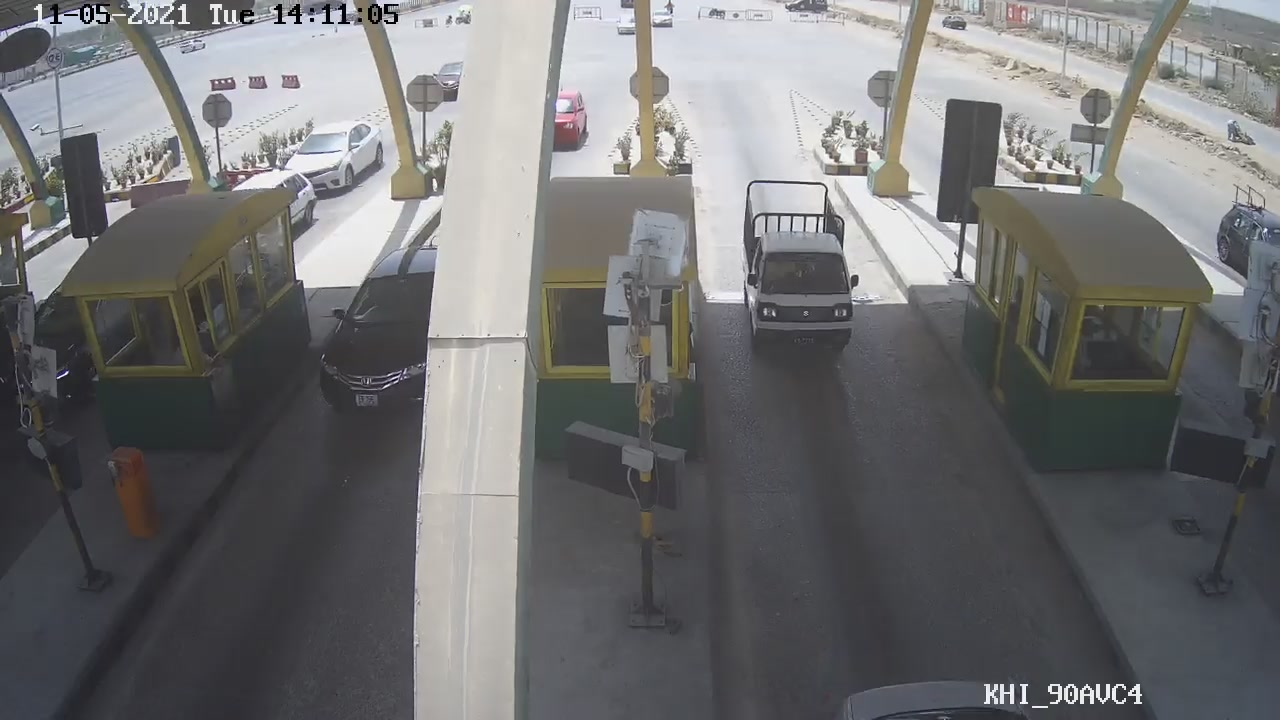F1: (726, 164, 872, 370)
